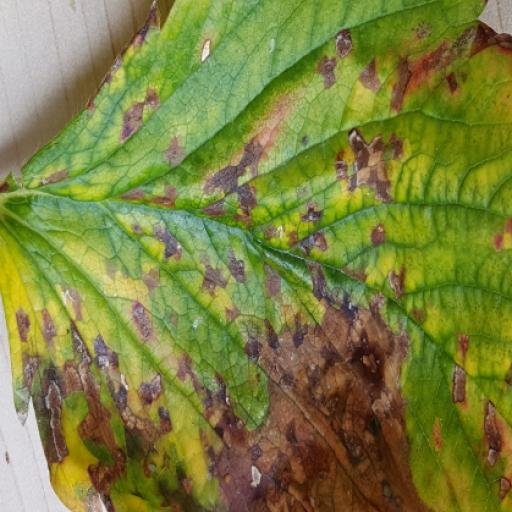Angular Leafspot: (0, 0, 511, 511)
